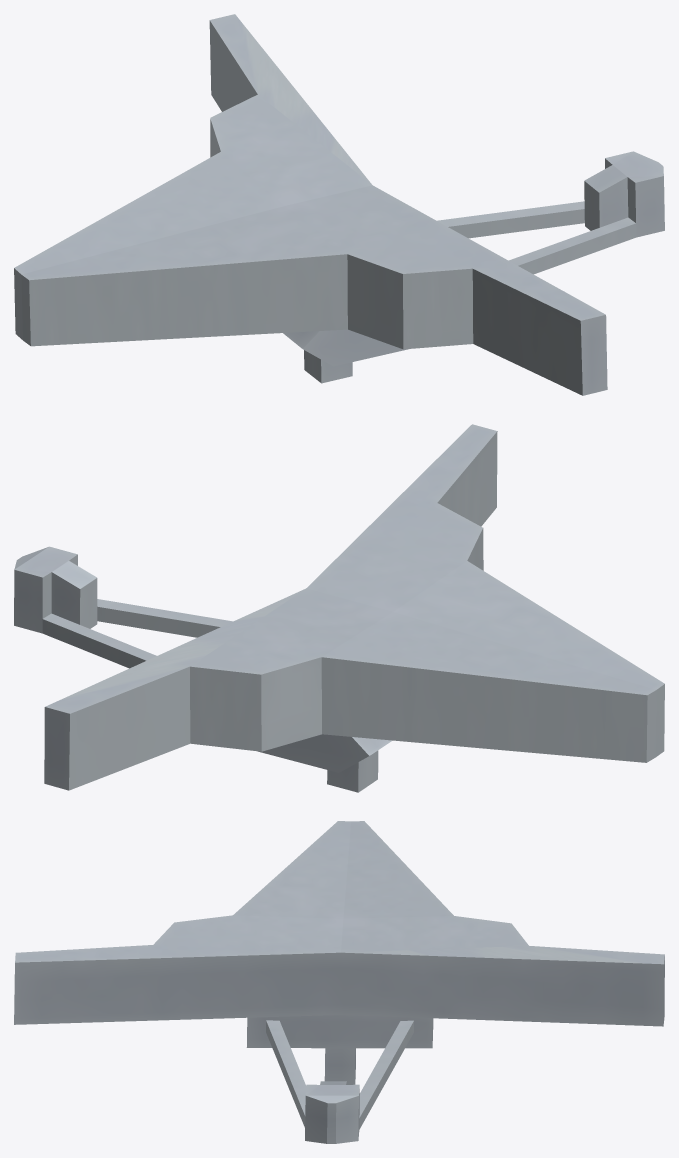
File: hms_clyde_radar1.gltf
3 renders of one model, top to bottom at view 1: azimuth 30°, elevation 25°; view 2: azimuth 150°, elevation 25°; view 3: azimuth 270°, elevation 25°, orthographic. The views are drawn at different scales.
Visible parts, largest first — view 1: radar01_Details_0; view 2: radar01_Details_0; view 3: radar01_Details_0.
Part boxes in pixels (<box>): radar01_Details_0: <box>14,14,664,395</box>; radar01_Details_0: <box>14,424,664,792</box>; radar01_Details_0: <box>14,821,664,1143</box>.
Bounding box in the file's own units: 4.38 × 1.27 × 4.74.
Materials: 1 (1 with a texture image).
